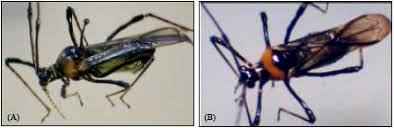Helopeltis-insect: (233, 10, 386, 94), (37, 22, 182, 92)
